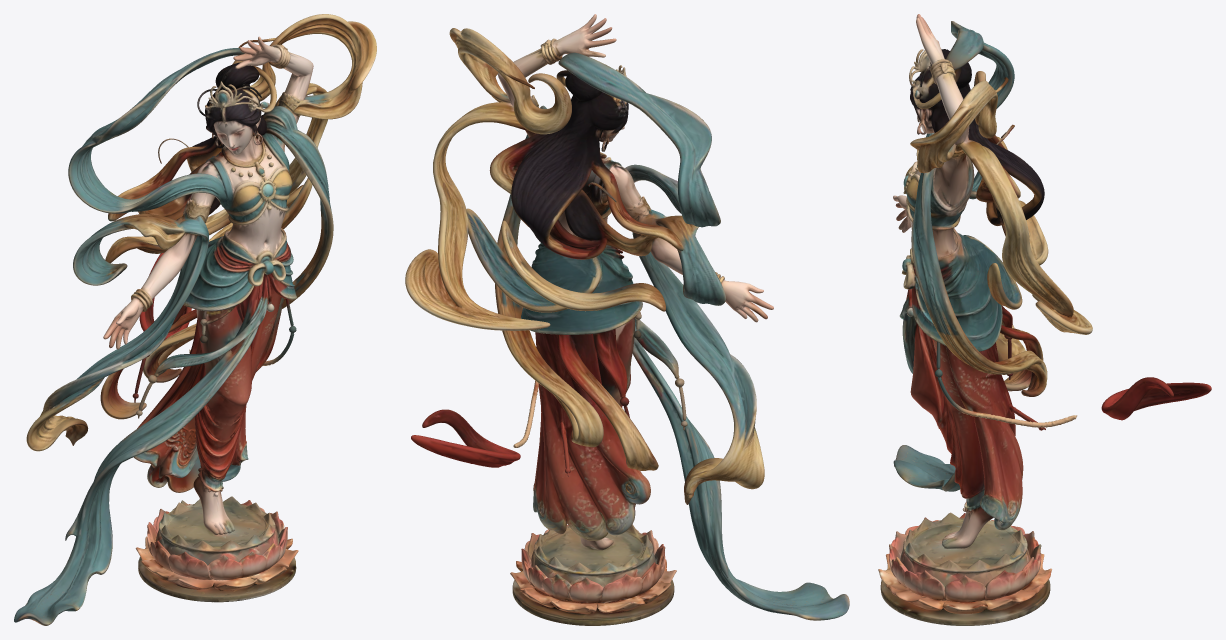
The model's file is feitian-dancer-lite.glb.
3 views of the same model, side by side, from view 1: azimuth 30°, elevation 25°; view 2: azimuth 150°, elevation 25°; view 3: azimuth 270°, elevation 25° (orthographic). The views are drawn at different scales.
Visible parts, largest first — view 1: node_0; view 2: node_0; view 3: node_0.
Boxes of the visible parts, x1,y1,x2,y2 form: node_0: (14, 14, 376, 625); node_0: (405, 14, 849, 625); node_0: (878, 14, 1211, 625).
Size of the model in its own units: 0.6961 by 0.9704 by 0.5023.
Materials: 1 (1 with a texture image).
